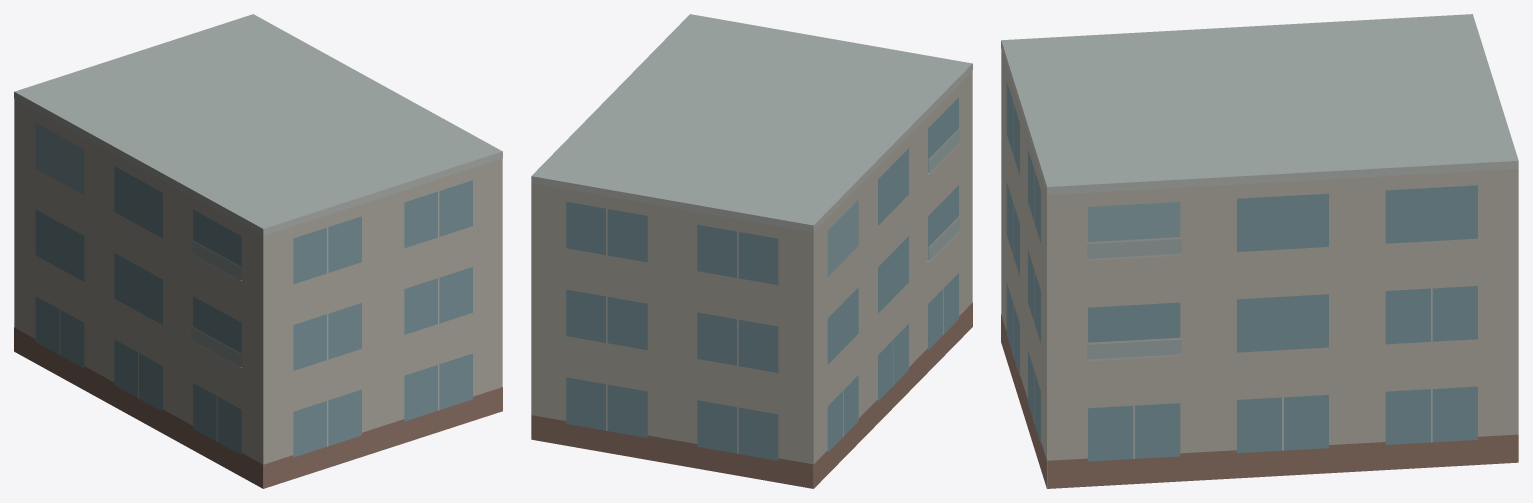
File: survey-upis-32913097.glb
3 views of the same model, side by side, from view 1: azimuth 30°, elevation 25°; view 2: azimuth 150°, elevation 25°; view 3: azimuth 270°, elevation 25° (orthographic). The views are drawn at different scales.
Visible parts, largest first — view 1: survey-upis-32913097.tmp; view 2: survey-upis-32913097.tmp; view 3: survey-upis-32913097.tmp.
Boxes of the visible parts, <box> form: survey-upis-32913097.tmp: <box>14,14,502,488</box>; survey-upis-32913097.tmp: <box>531,14,972,488</box>; survey-upis-32913097.tmp: <box>1001,14,1518,488</box>.
Bounding box in the file's own units: 11.26 × 9.15 × 14.23.
